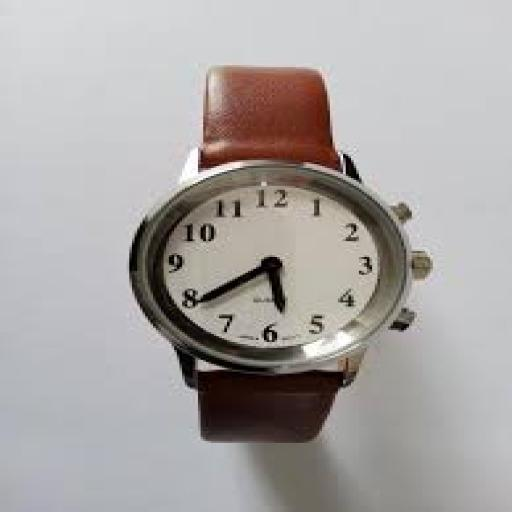KolSaati: (101, 28, 435, 461)
